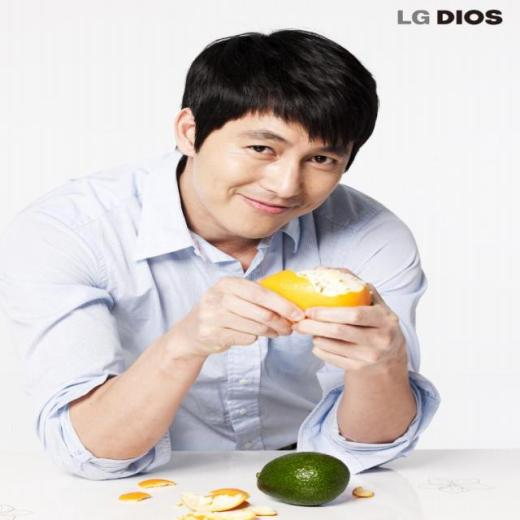Grape: (257, 269, 373, 324)
